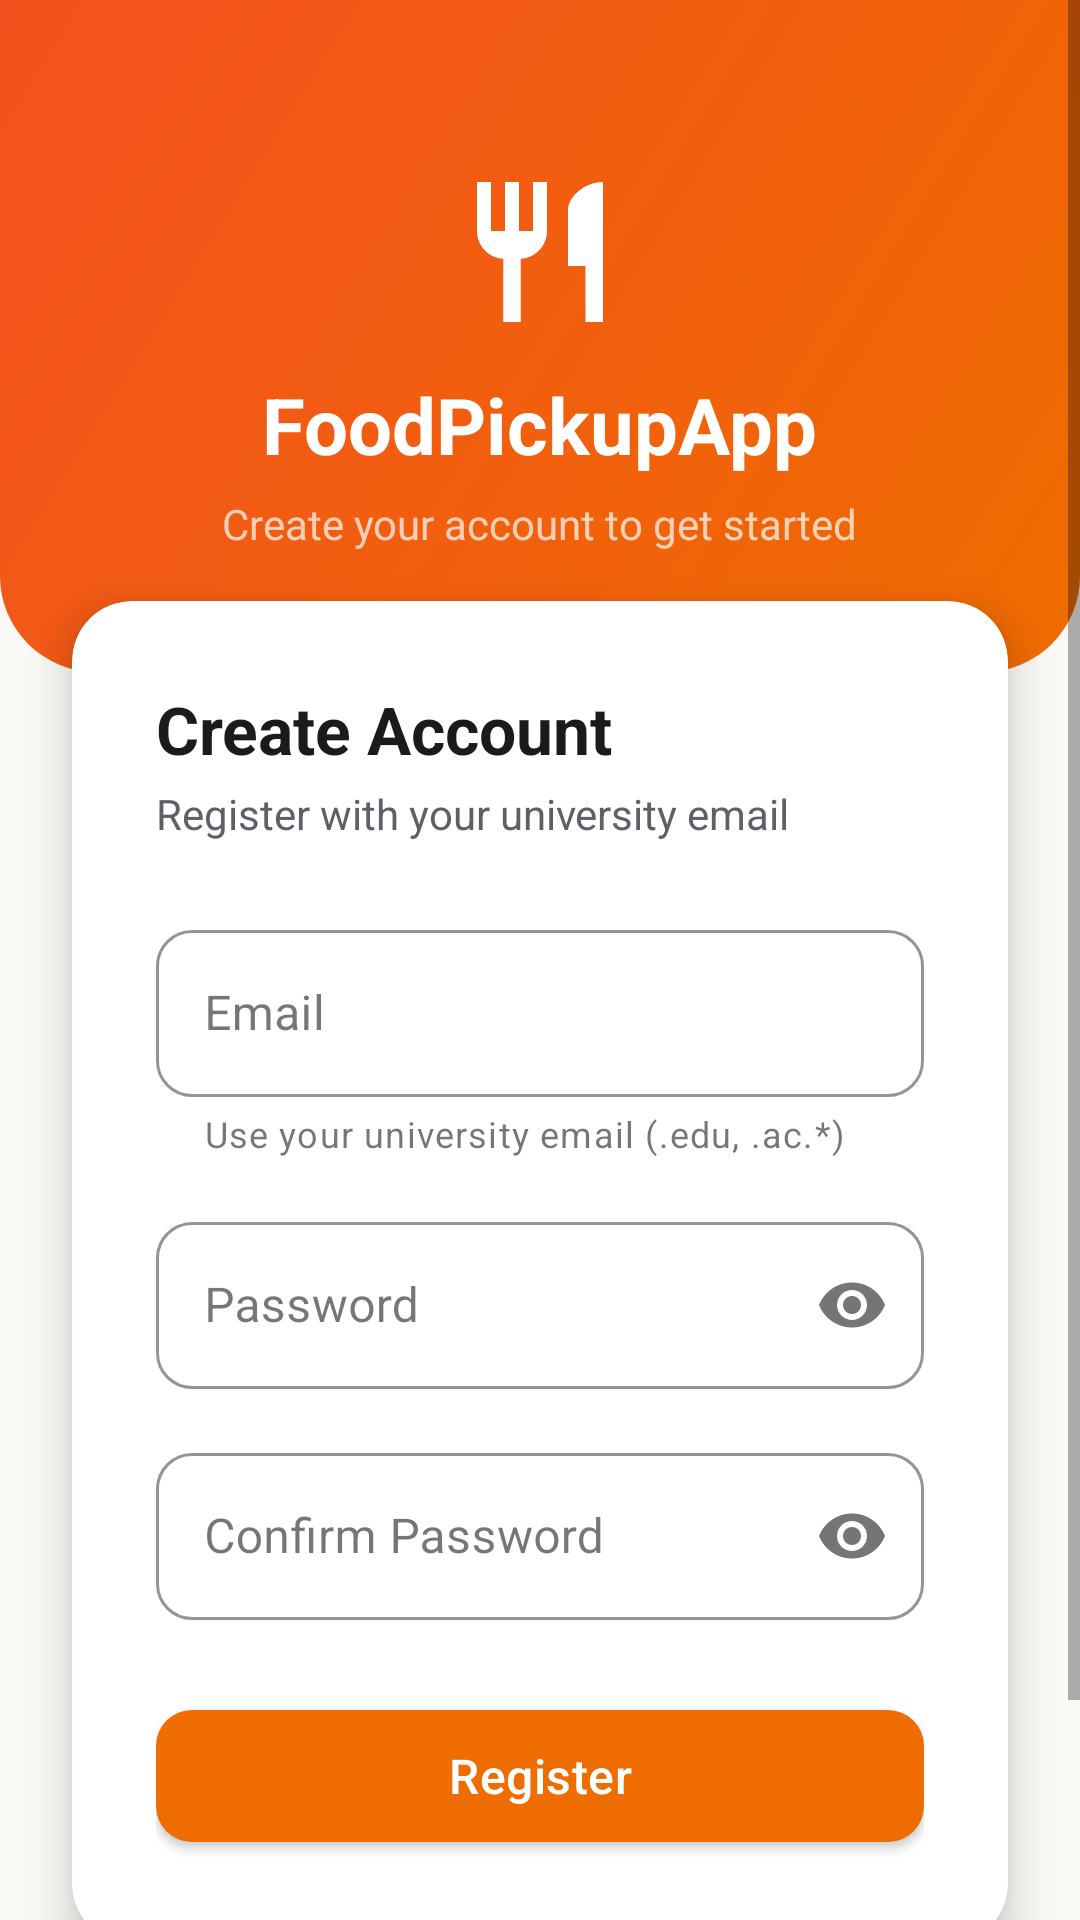

Screen size 1080px×1920px. Icon name, then its box in pixels as (x1, y1, x2, y2):
restaurant: (477, 182, 603, 322)
